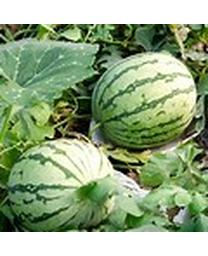watermelon: (92, 48, 200, 148), (9, 142, 115, 228)
